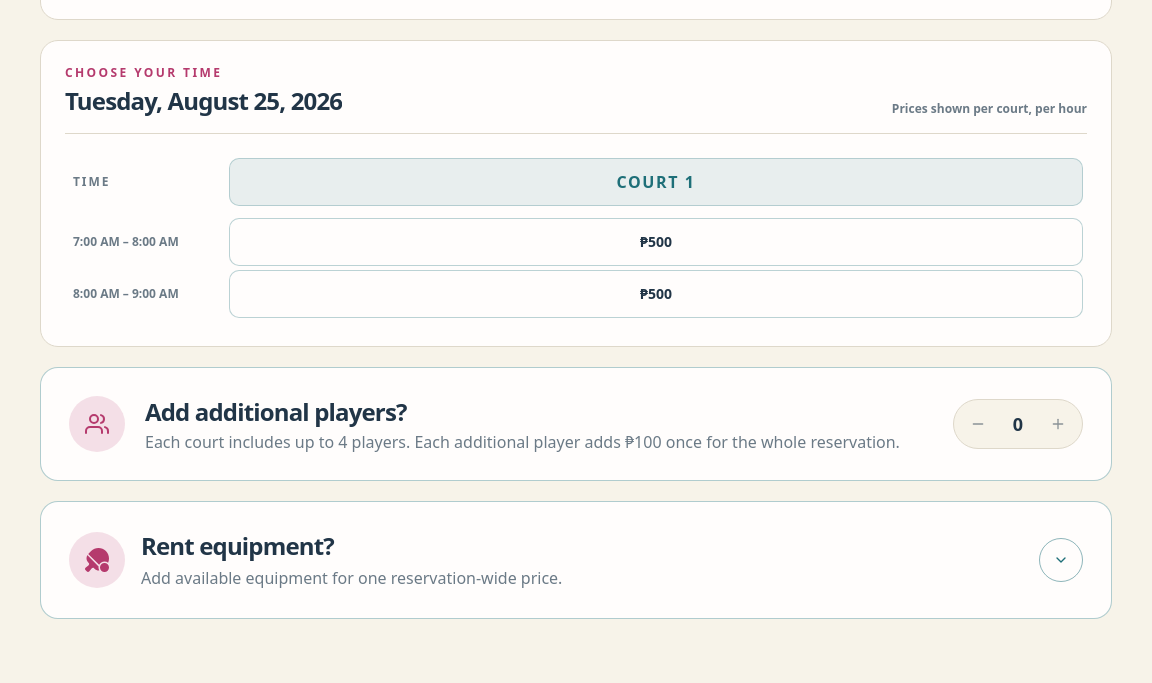
ReservationExperience › shows the equipment time reminder before revealing equipment options
(page scrolled)
Click the button "Rent equipment".
click(97, 560)  # box 41,502 -> 1111,618
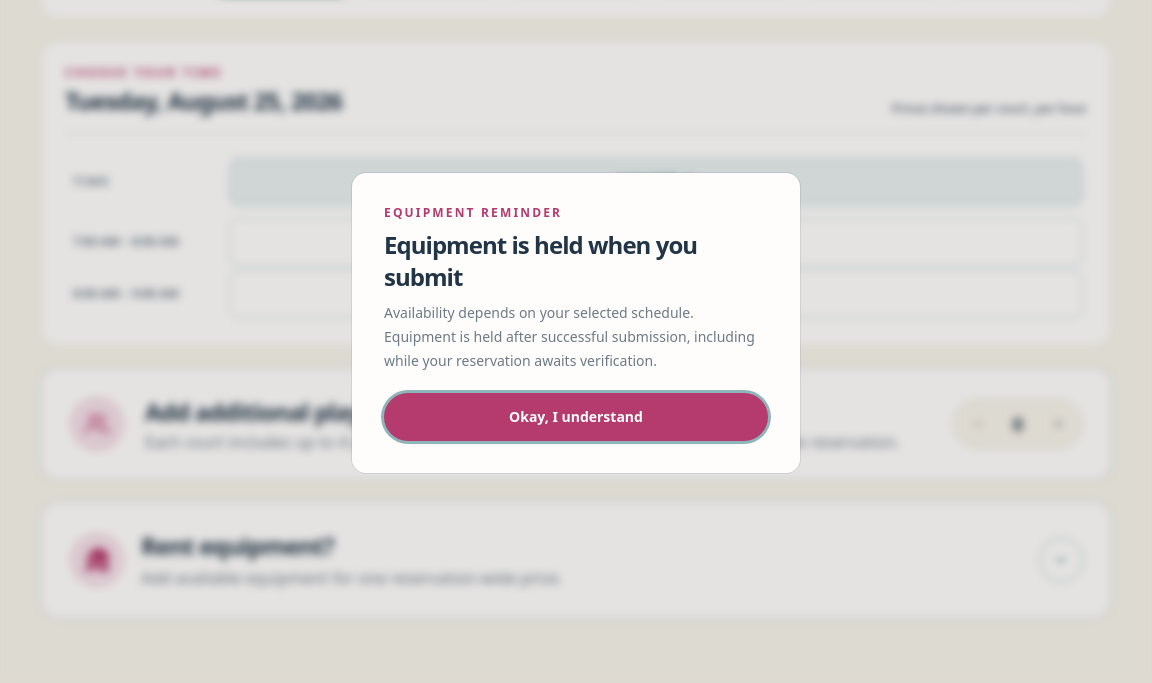
Check: the dialog is shown, box 352,173 -> 800,473
Check: the heading "Equipment is held when you submit" is shown, box 384,228 -> 697,293
Click the button "Okay, I understand".
click(576, 417)  # box 384,393 -> 768,441
(page scrolled)
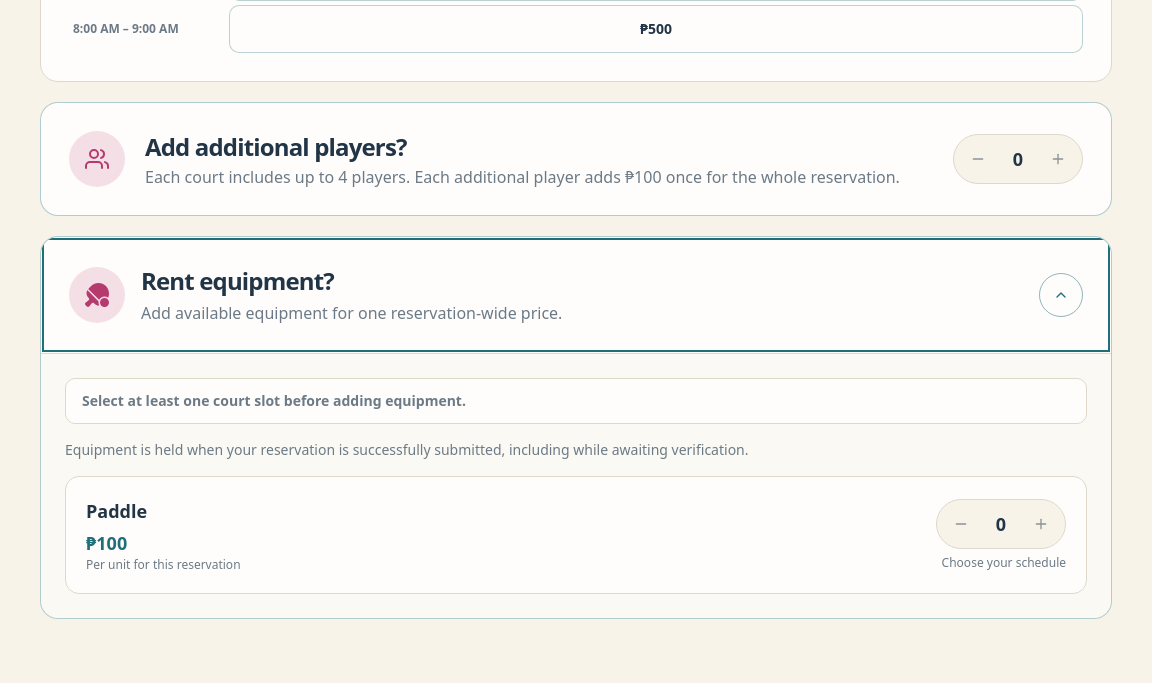
Check: the button named "Add one Paddle" is shown, box 1021,504 -> 1061,544
